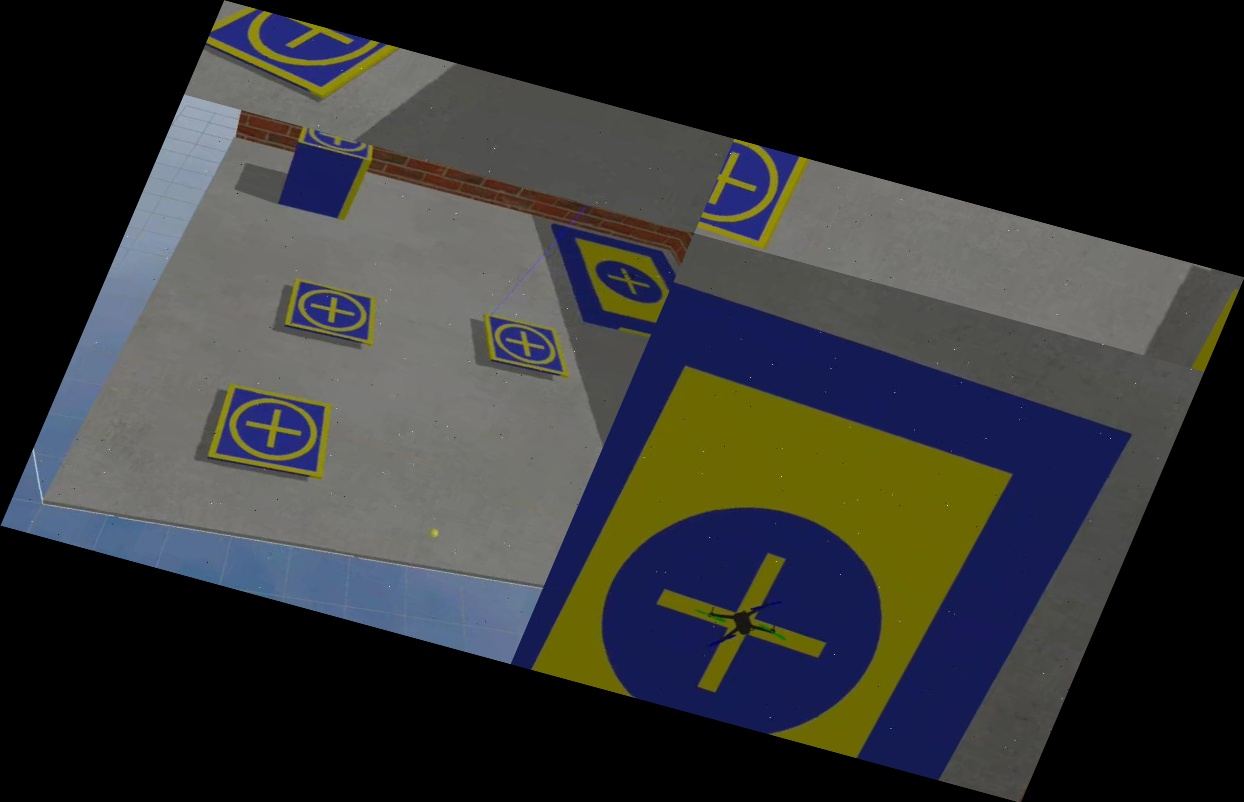large_base: (510, 274, 1142, 790), (499, 212, 686, 353)
small_base: (193, 0, 424, 127), (185, 370, 356, 500), (694, 139, 816, 254), (263, 269, 395, 360), (459, 307, 587, 391), (288, 125, 381, 168)
